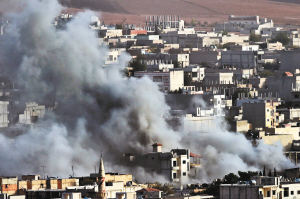smoke: (2, 9, 172, 179)
